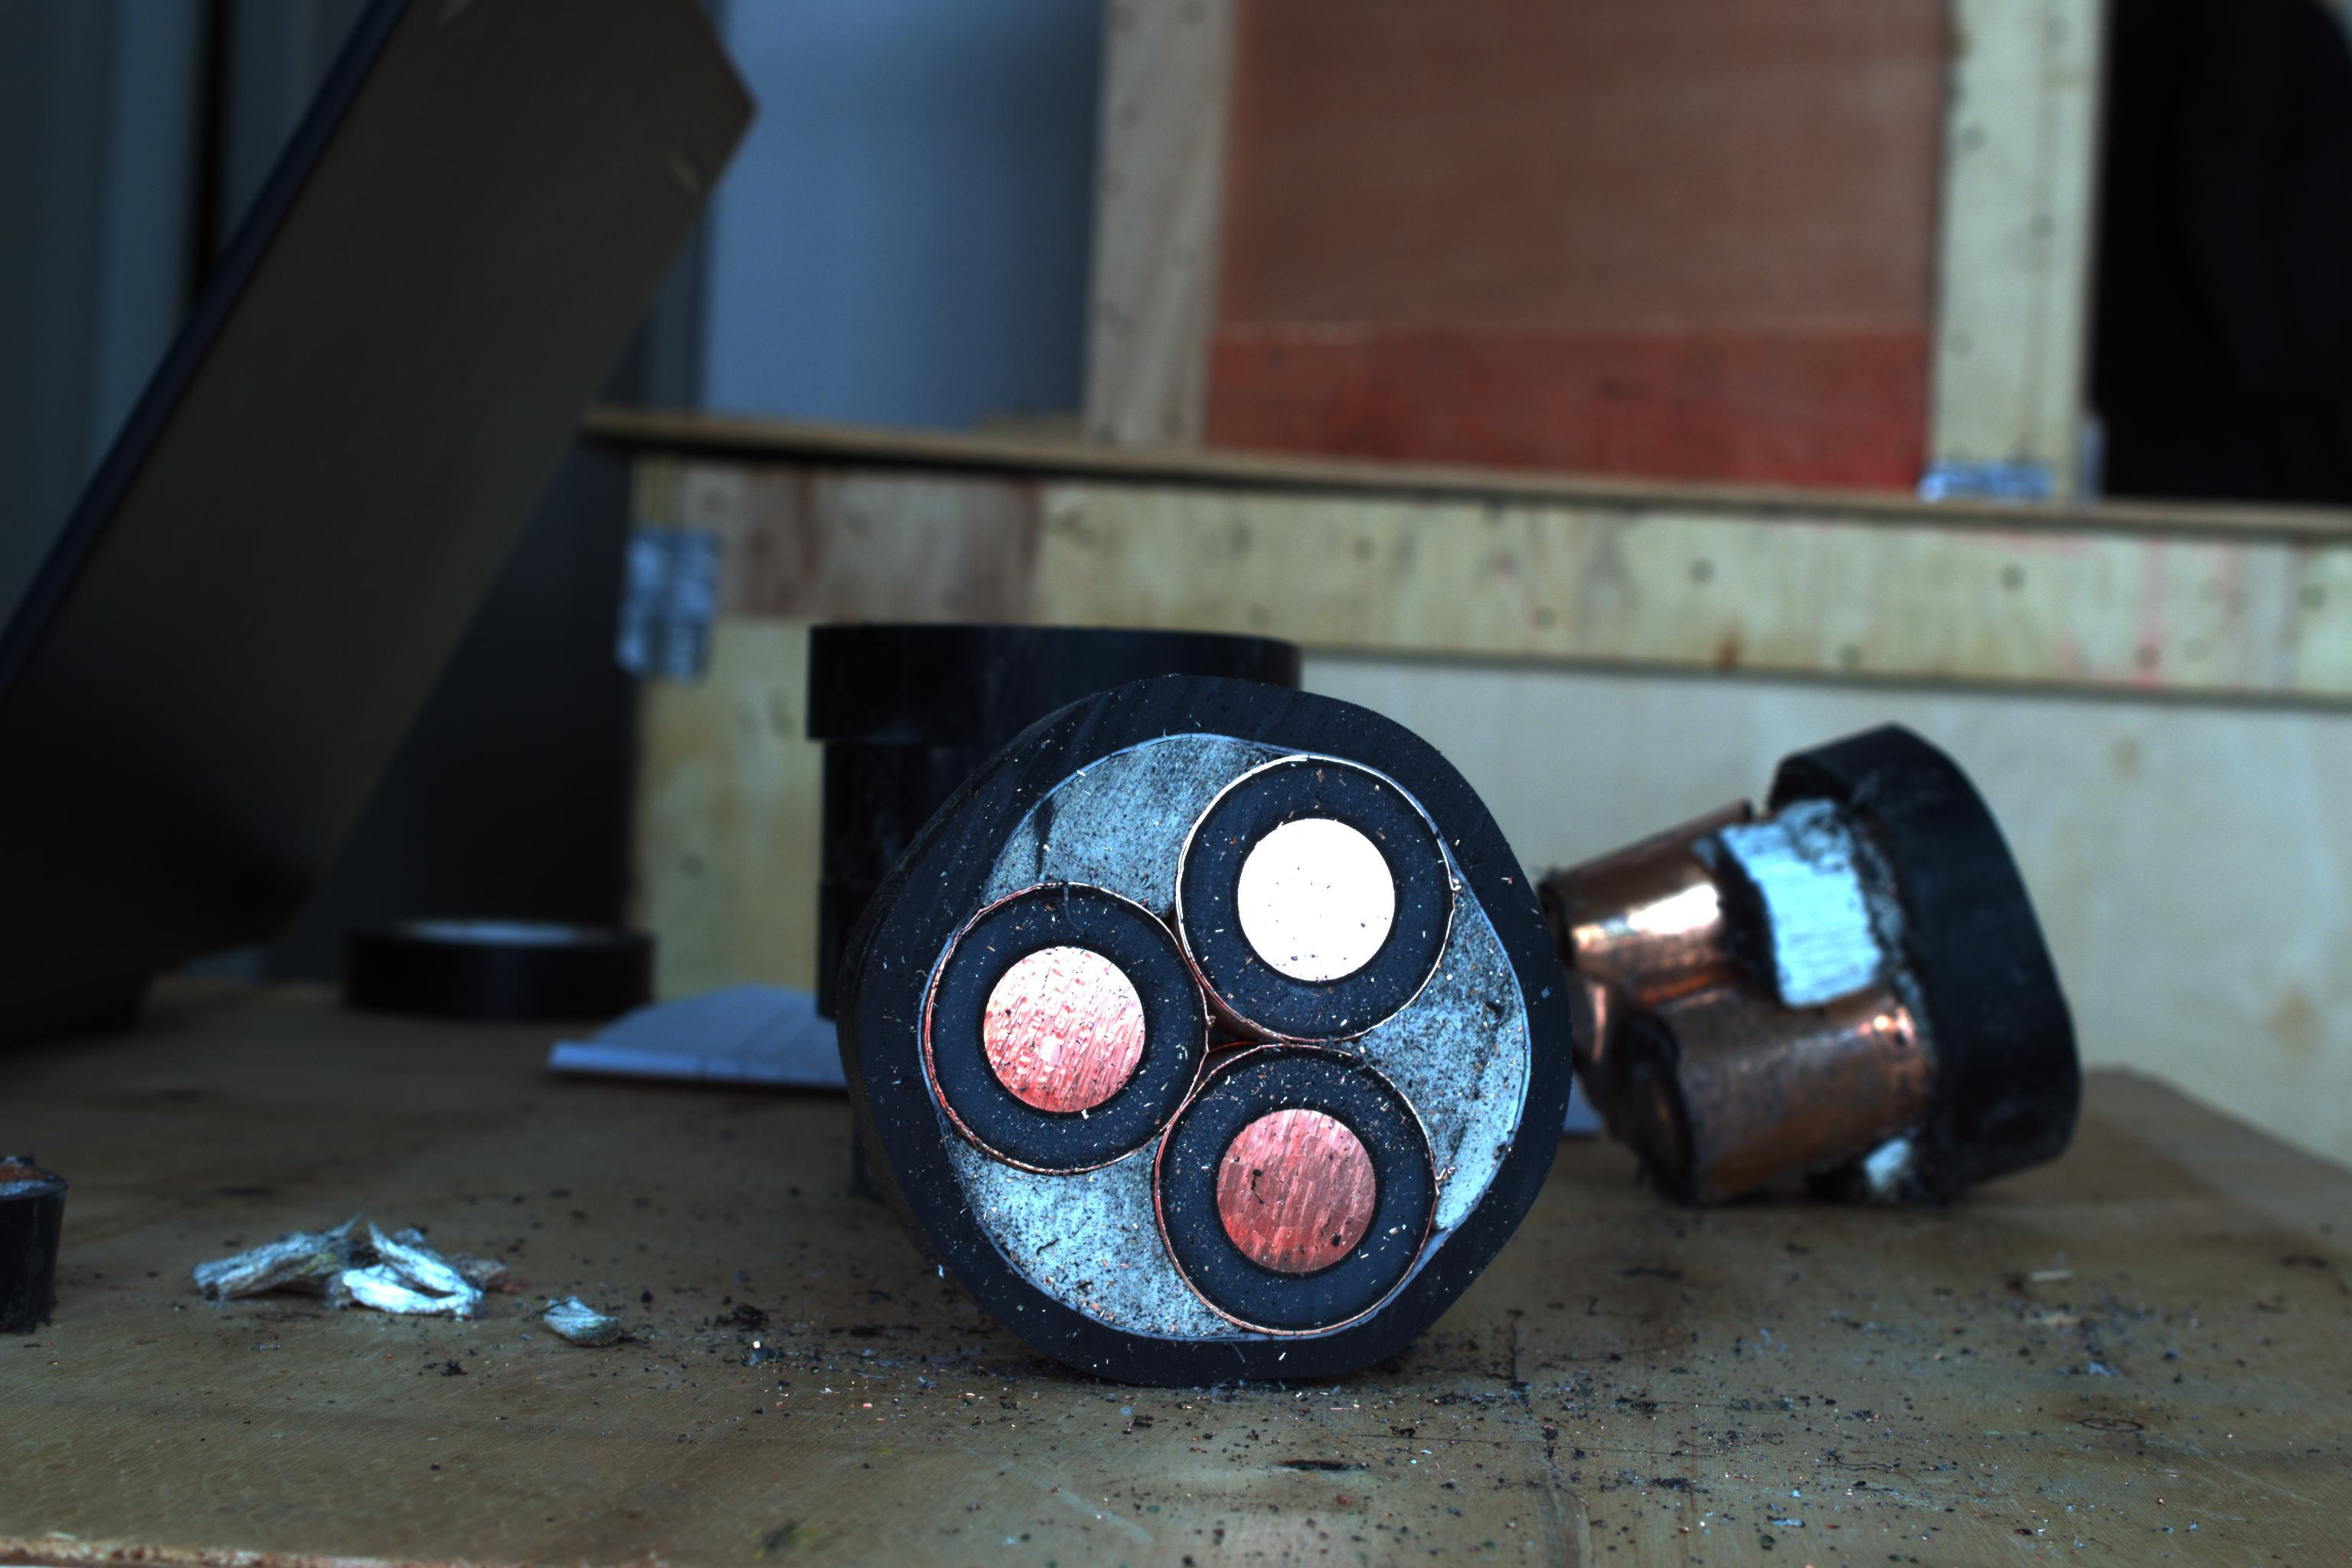ZA_YJV_8.7_10kV_3x240: (866, 688, 1578, 1368)
